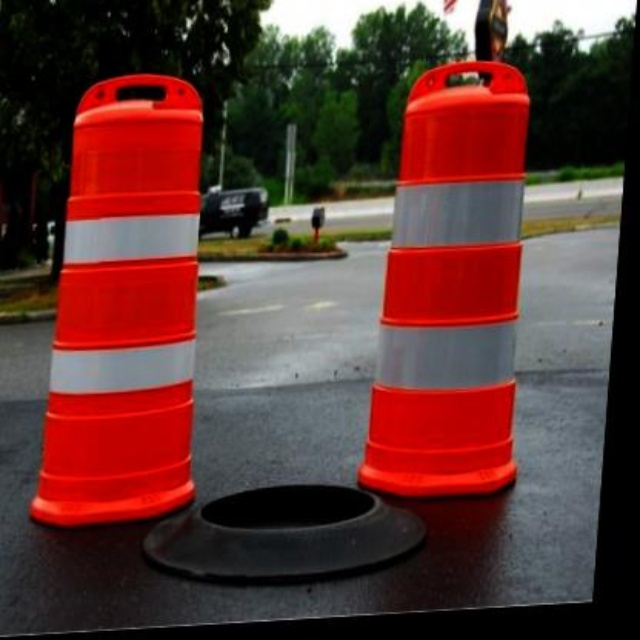obstacle: (31, 67, 229, 535), (366, 58, 551, 512)
